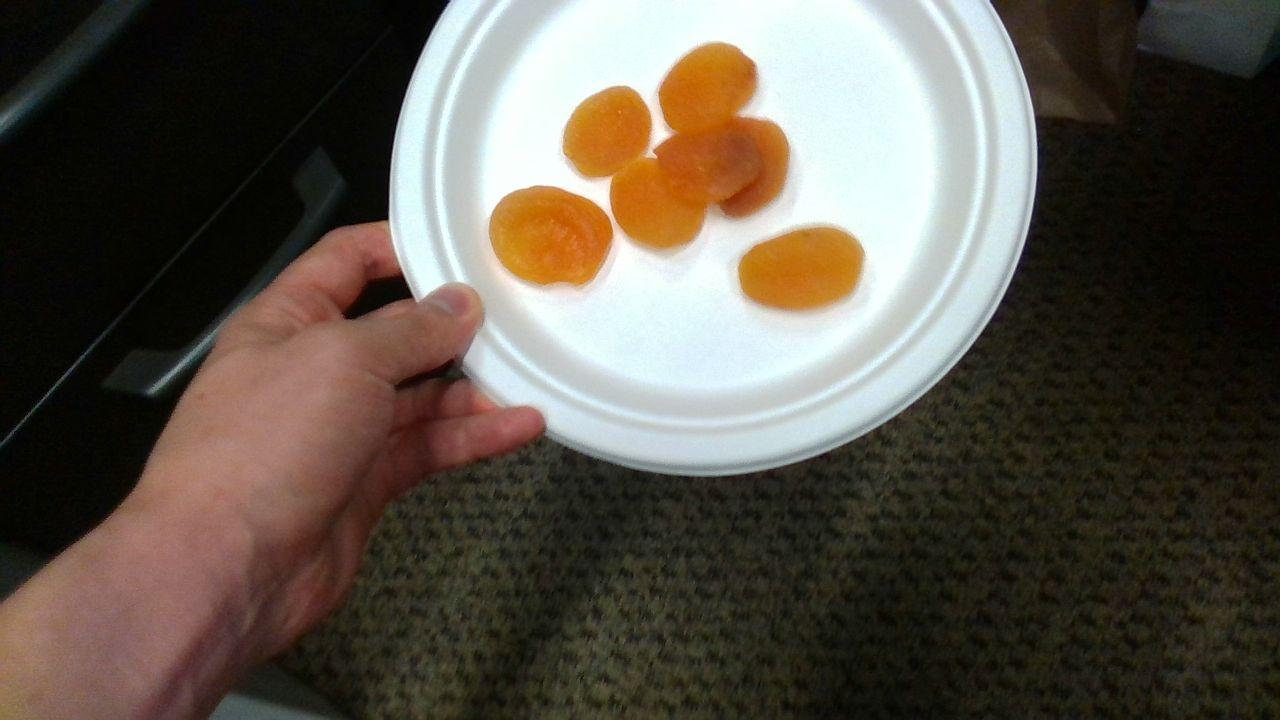apricot: (491, 186, 612, 286), (739, 227, 864, 309), (657, 122, 765, 203), (659, 44, 756, 132), (612, 159, 706, 247), (567, 86, 651, 178)
